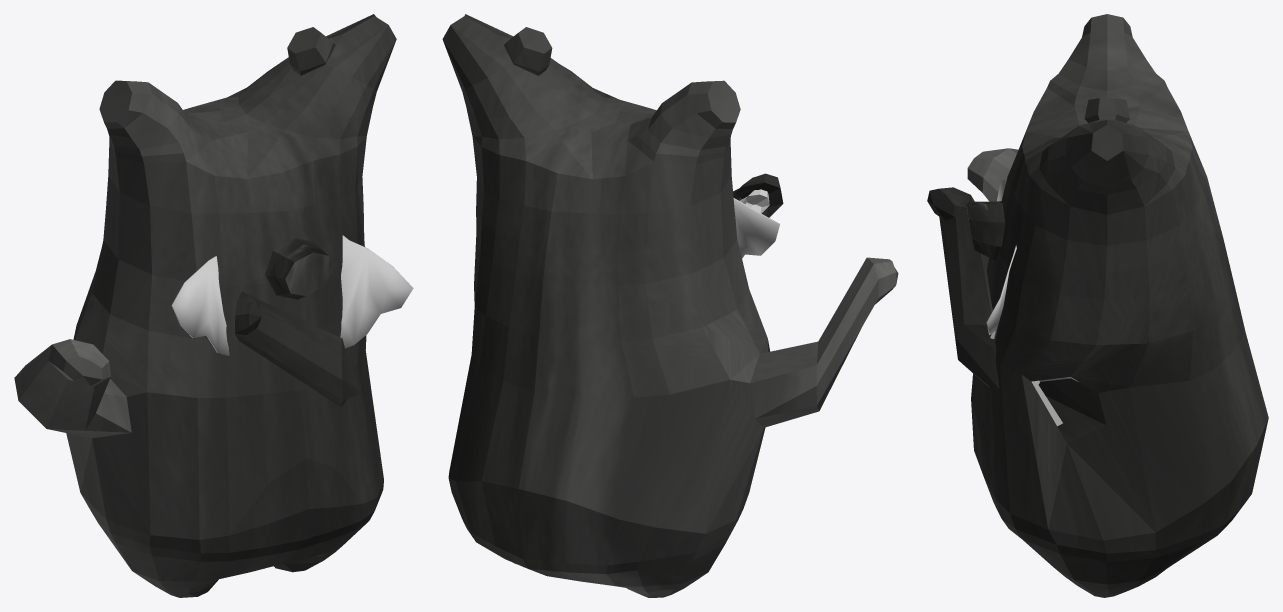
File: frame_0002.obj
3 renders of one model, left to right at view 1: azimuth 30°, elevation 25°; view 2: azimuth 150°, elevation 25°; view 3: azimuth 270°, elevation 25°, orthographic. The views are drawn at different scales.
Parts seen in each view (by area): view 1: korok, leaf, nose; view 2: korok, leaf; view 3: korok, nose, leaf.
Boxes of the visible parts, x1,y1,x2,y2 form: korok: (14,14,396,597); leaf: (171,235,413,355); nose: (265,238,332,299); korok: (442,14,898,597); leaf: (733,198,779,258); korok: (927,14,1268,597); nose: (967,201,1005,260); leaf: (986,179,1016,338).
Bounding box in the file's own units: 1.68 × 2.19 × 1.34.
